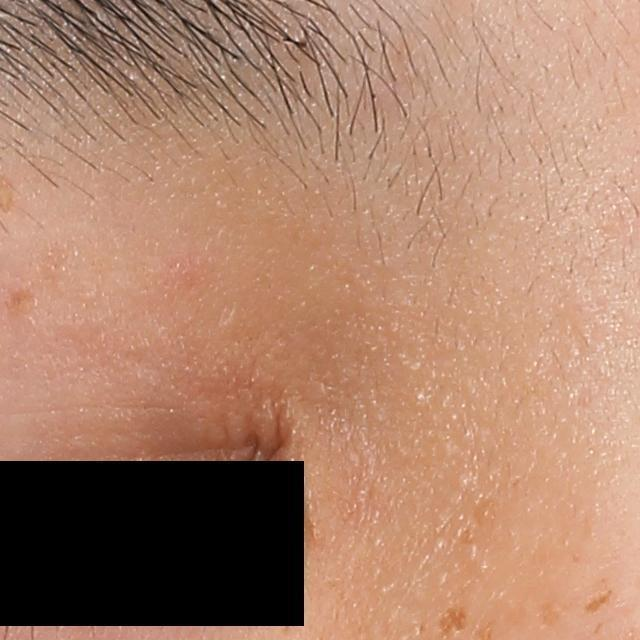melasma: (2, 286, 42, 318), (438, 602, 471, 640), (538, 594, 569, 632), (580, 588, 616, 616)
